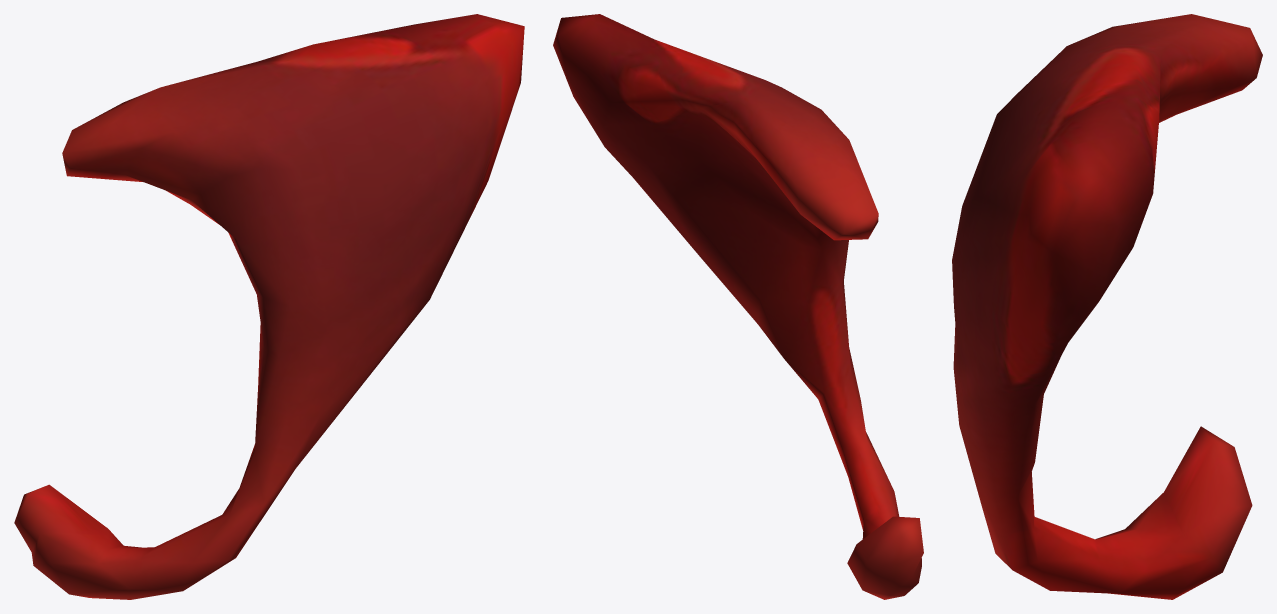
Rendered from Face_Mucle_04.glb.
3 renders of one model, left to right at view 1: azimuth 30°, elevation 25°; view 2: azimuth 150°, elevation 25°; view 3: azimuth 270°, elevation 25°, orthographic. The views are drawn at different scales.
Visible parts, largest first — view 1: Face_Mucle_04; view 2: Face_Mucle_04; view 3: Face_Mucle_04.
Boxes of the visible parts, box(x1,y1,x2,y2) form: Face_Mucle_04: box(14, 14, 524, 599); Face_Mucle_04: box(553, 14, 923, 599); Face_Mucle_04: box(952, 14, 1262, 599).
Bounding box in the file's own units: 0.1233 × 0.1351 × 0.0559.
Materials: 1 (1 with a texture image).
